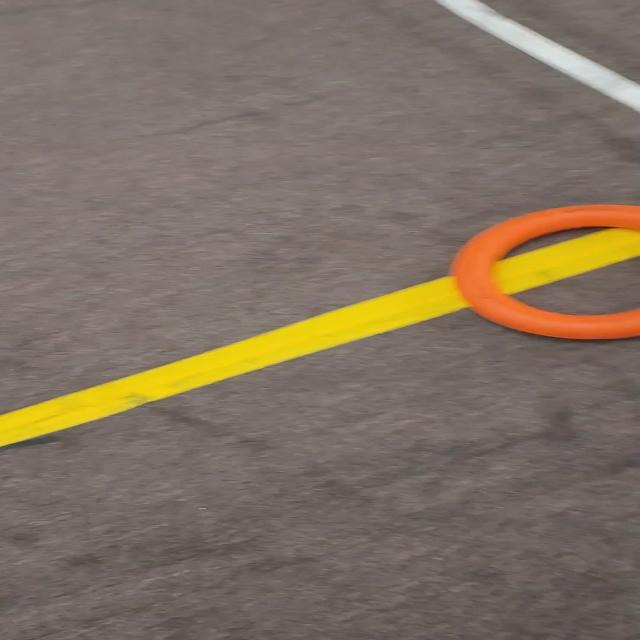note: (442, 201, 640, 353)
